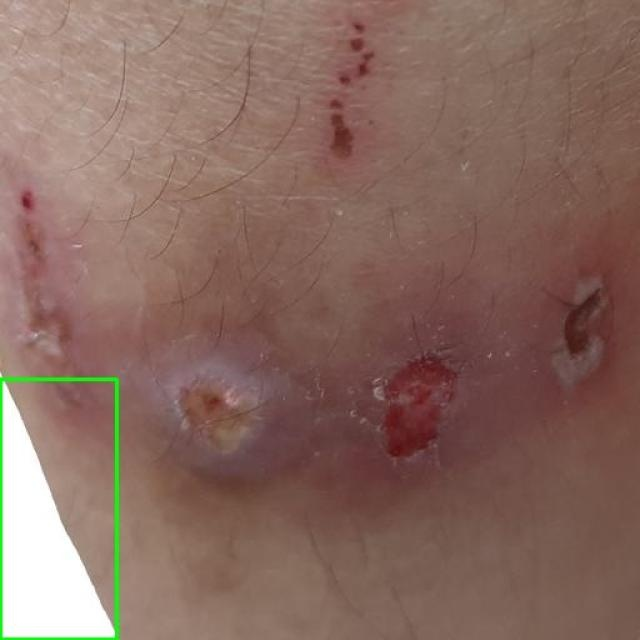Contact Dermatitis: (0, 379, 116, 639)
